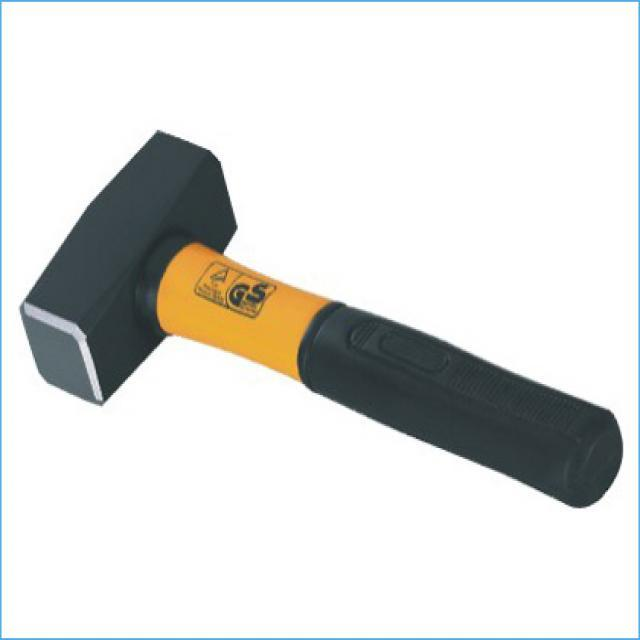hammer: (14, 112, 632, 527)
